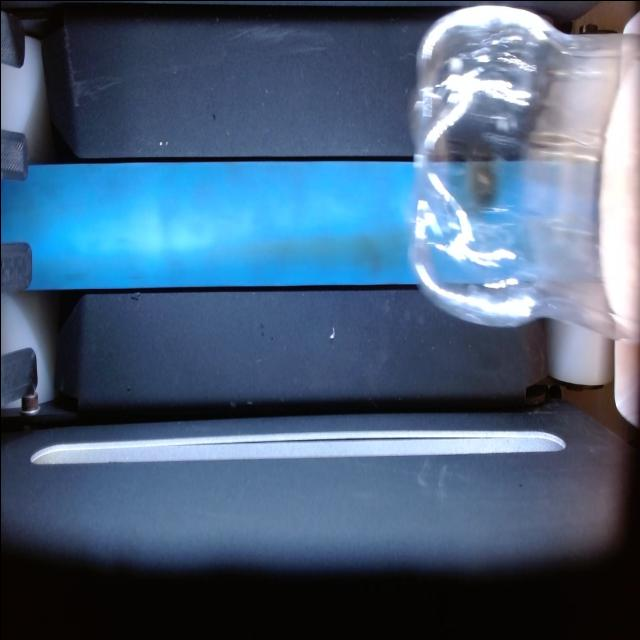bottle: (410, 7, 640, 340)
